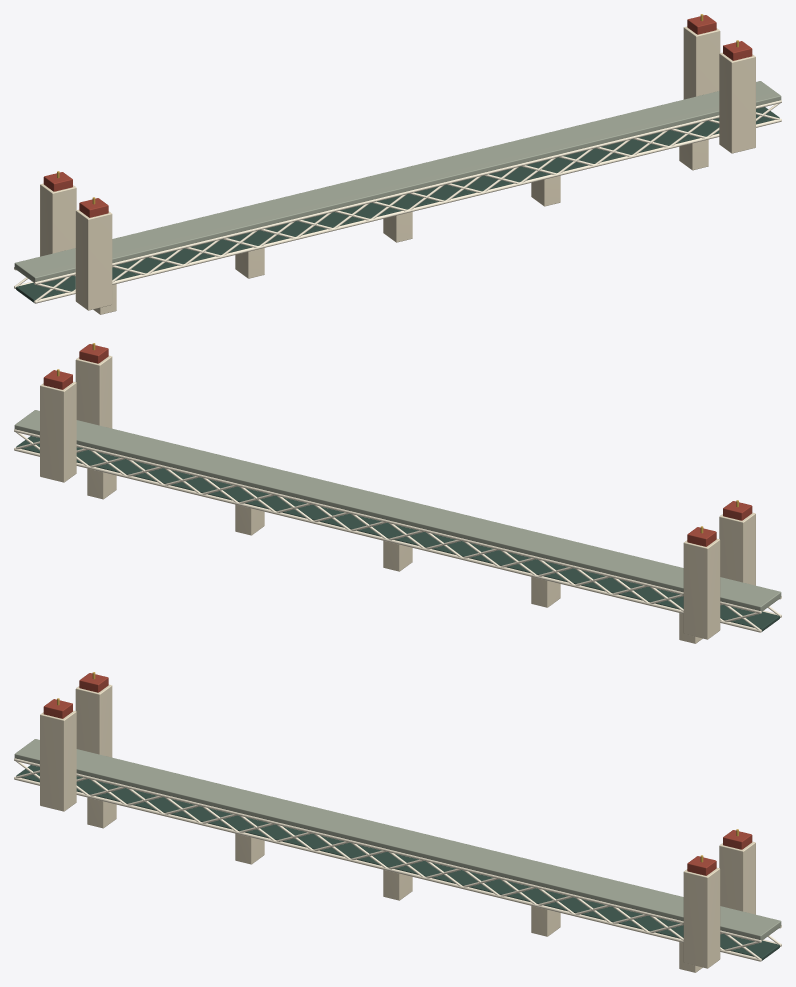
Rendered from yangtze-bridge-original.glb.
The picture shows the model from 3 angles, top to bottom: view 1: azimuth 30°, elevation 25°; view 2: azimuth 150°, elevation 25°; view 3: azimuth 330°, elevation 25°; orthographic projection.
Parts seen in each view (by area): view 1: upper deck, rail deck, bridgehead tower, bridgehead tower.002, bottom chord, bridgehead tower.003, bridgehead tower.001, top chord, pier.001, pier.003, pier.004, pier.002; view 2: upper deck, rail deck, bridgehead tower.001, bridgehead tower.003, bottom chord.001, bridgehead tower.002, bridgehead tower, top chord.001, pier.001, pier.003, pier.004, pier.002; view 3: upper deck, rail deck, bridgehead tower.002, bridgehead tower, bottom chord, bridgehead tower.001, bridgehead tower.003, top chord, pier, pier.001, pier.003, pier.002.
Part boxes in pixels (x1=…): upper deck: x1=14, y1=81, x2=781, y2=282; rail deck: x1=16, y1=107, x2=779, y2=302; bridgehead tower: x1=75, y1=209, x2=112, y2=310; bridgehead tower.002: x1=719, y1=52, x2=755, y2=153; bottom chord: x1=34, y1=119, x2=781, y2=303; bridgehead tower.003: x1=683, y1=26, x2=720, y2=99; bridgehead tower.001: x1=40, y1=183, x2=76, y2=256; top chord: x1=34, y1=100, x2=781, y2=284; pier.001: x1=235, y1=248, x2=264, y2=278; pier.003: x1=531, y1=175, x2=560, y2=206; pier.004: x1=679, y1=139, x2=708, y2=170; pier.002: x1=383, y1=212, x2=412, y2=242; upper deck: x1=14, y1=410, x2=781, y2=611; rail deck: x1=16, y1=436, x2=779, y2=631; bridgehead tower.001: x1=683, y1=538, x2=720, y2=639; bridgehead tower.003: x1=40, y1=381, x2=76, y2=482; bottom chord.001: x1=14, y1=448, x2=761, y2=632; bridgehead tower.002: x1=75, y1=355, x2=112, y2=428; bridgehead tower: x1=719, y1=512, x2=755, y2=585; top chord.001: x1=14, y1=429, x2=761, y2=613; pier.001: x1=531, y1=577, x2=560, y2=607; pier.003: x1=235, y1=504, x2=264, y2=535; pier.004: x1=87, y1=468, x2=116, y2=499; pier.002: x1=383, y1=541, x2=412, y2=571; upper deck: x1=14, y1=739, x2=781, y2=940; rail deck: x1=16, y1=765, x2=779, y2=960; bridgehead tower.002: x1=683, y1=867, x2=720, y2=968; bridgehead tower: x1=40, y1=710, x2=76, y2=811; bottom chord: x1=14, y1=777, x2=761, y2=961; bridgehead tower.001: x1=75, y1=684, x2=112, y2=757; bridgehead tower.003: x1=719, y1=841, x2=755, y2=914; top chord: x1=14, y1=758, x2=761, y2=942; pier: x1=87, y1=797, x2=116, y2=828; pier.001: x1=235, y1=833, x2=264, y2=864; pier.003: x1=531, y1=906, x2=560, y2=936; pier.002: x1=383, y1=870, x2=412, y2=900.
Size of the model in its own units: 58.05 by 9.65 by 6.5.
